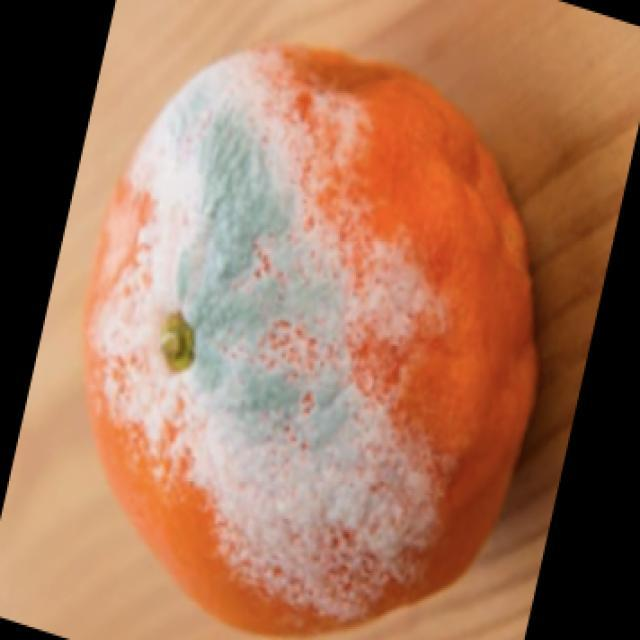rotten orange: (81, 39, 540, 638)
